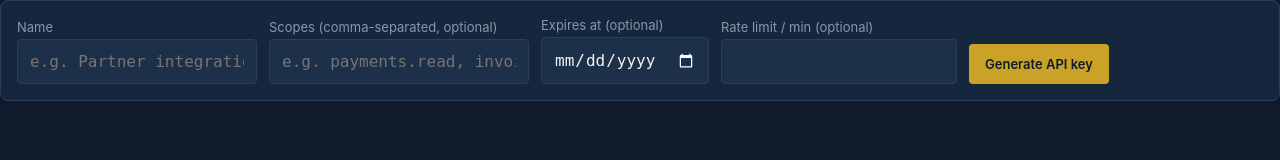
Test case: GenerateApiKeyForm › shows the action-returned error message and stays on the form step on failure
Step 1. Type "Reporting bot" into the field labelled "Name" → (137, 62), box [17,39,257,84]
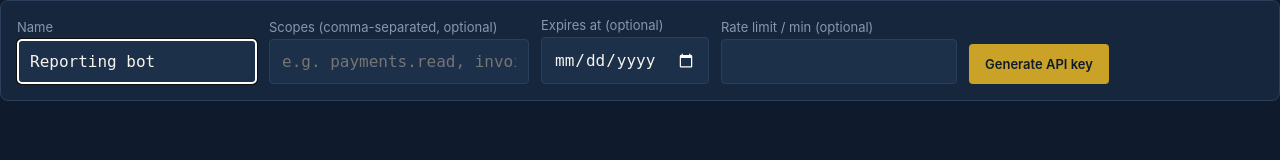
Step 2. Click the button "Generate API key" → (1039, 64), box [969,44,1109,84]
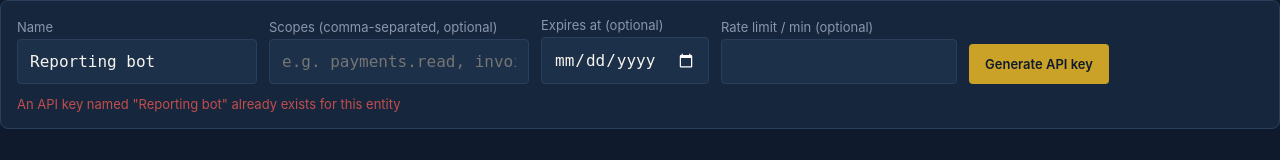
Result: the text "An API key named \"Reporting bot\" already exists for this entity" is shown at [17,96,400,112]
